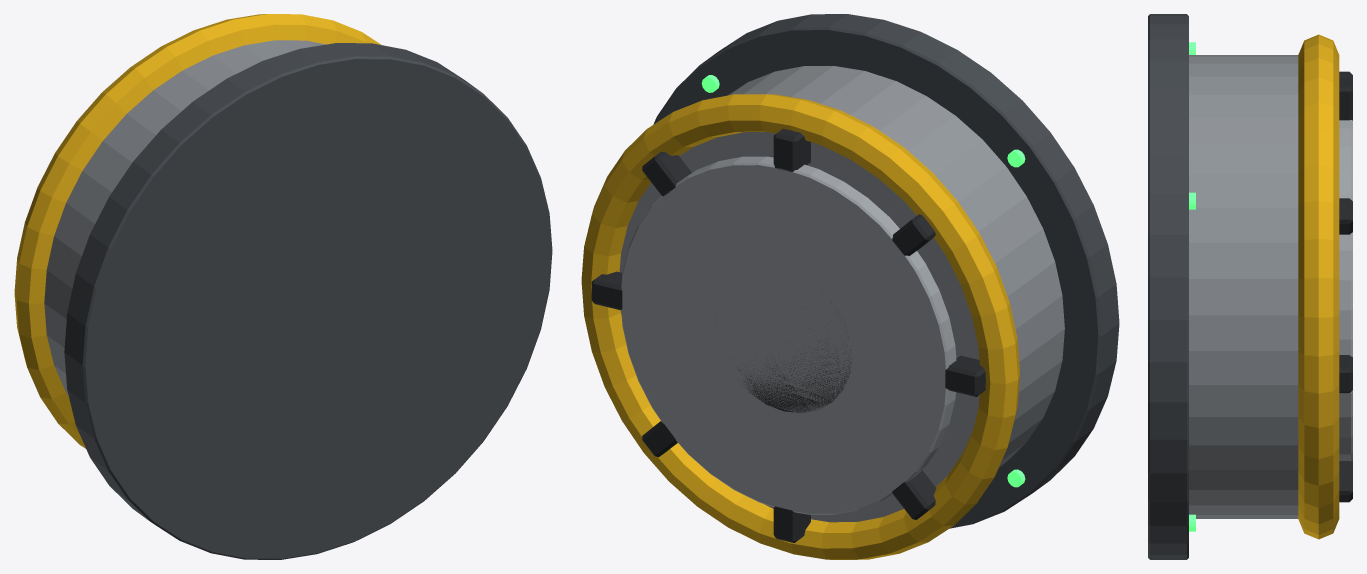
Rendered from docking_port.glb.
3 views of the same model, side by side, from view 1: azimuth 30°, elevation 25°; view 2: azimuth 150°, elevation 25°; view 3: azimuth 270°, elevation 25° (orthographic).
Visible parts, largest first — view 1: docking_port; view 2: docking_port; view 3: docking_port.
Part boxes in pixels (x1,y1,x2,y2): docking_port: (14,14,552,559); docking_port: (581,14,1119,559); docking_port: (1148,14,1352,559).
Bounding box in the file's own units: 1.6 × 1.6 × 0.6.
